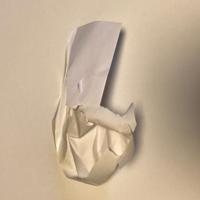paper: (48, 21, 139, 189)
